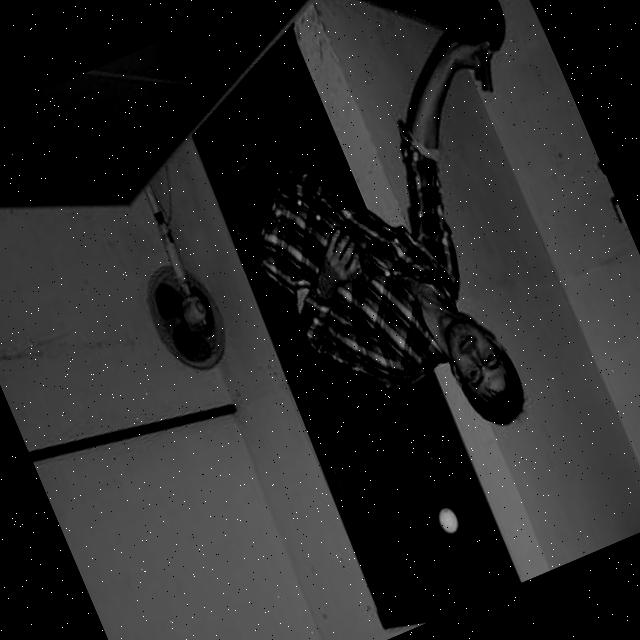ping-pong-ball: (435, 503, 463, 537)
